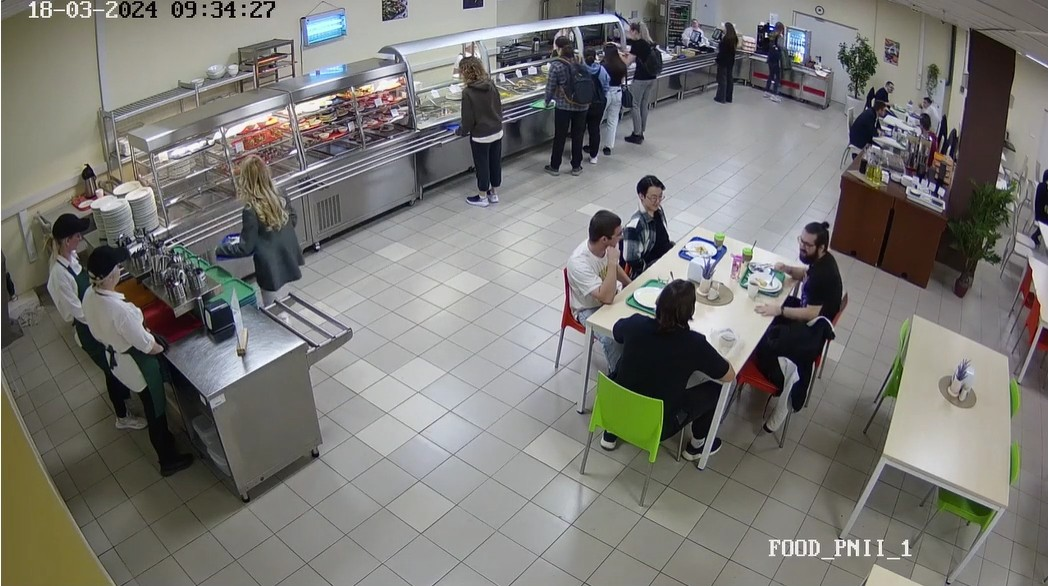Na_Kasse: (762, 21, 789, 95), (712, 22, 736, 102)
Ne_v_Ocheredi: (1025, 155, 1048, 254)
Personal: (70, 241, 204, 476), (37, 202, 145, 430), (683, 11, 709, 45), (454, 34, 485, 61)
Vybiraet: (222, 144, 316, 327), (435, 51, 512, 207), (533, 42, 583, 172), (623, 12, 652, 141), (578, 41, 604, 156), (603, 42, 624, 153)
Za_Stolom: (580, 277, 722, 477), (549, 201, 637, 371), (763, 210, 846, 350), (631, 158, 677, 256), (842, 95, 888, 156), (913, 109, 938, 143), (874, 75, 905, 102), (914, 83, 936, 107)
